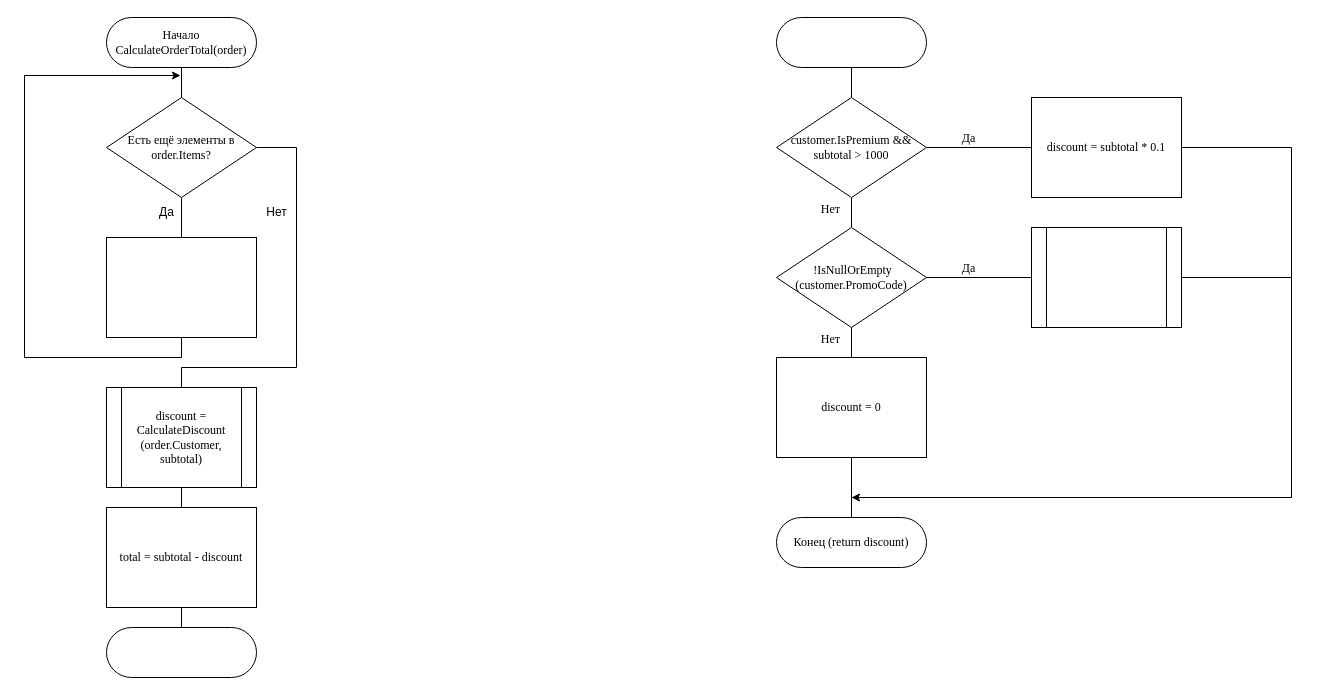
Some shapes in this 1317 by 695 pixel diagram are drawn without their labels. The shapes that lost their labels are listed below. From the top down, each one's centre as x and y in pixels, then its label:
At pixel 851 42: "Начало CalculateDiscount(customer, subtotal)".
At pixel 181 287: "subtotal += item.Quantity * item.UnitPrice".
At pixel 1106 277: "discount = ApplyPromoCode (customer.PromoCode, subtotal)".
At pixel 181 652: "Конец (return total)".
